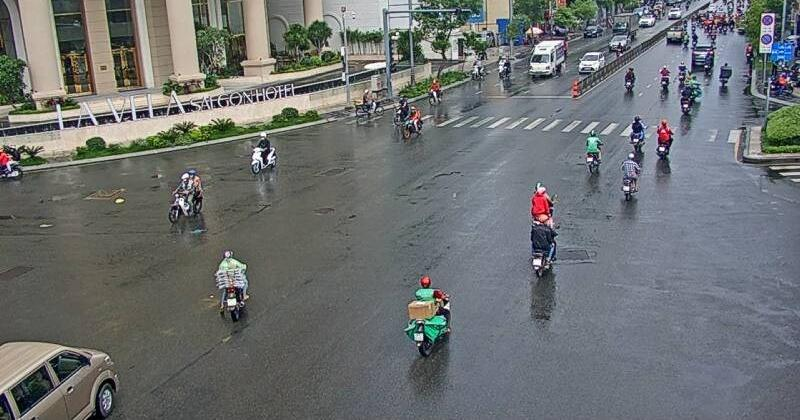xe hoi: (0, 340, 127, 420)
xe may: (403, 275, 450, 359), (218, 247, 252, 321), (169, 169, 205, 223), (527, 212, 556, 273), (251, 130, 277, 173), (618, 153, 639, 201), (583, 128, 603, 175), (355, 87, 384, 117), (654, 119, 673, 156), (629, 115, 645, 155), (392, 92, 409, 125), (427, 79, 443, 105)
